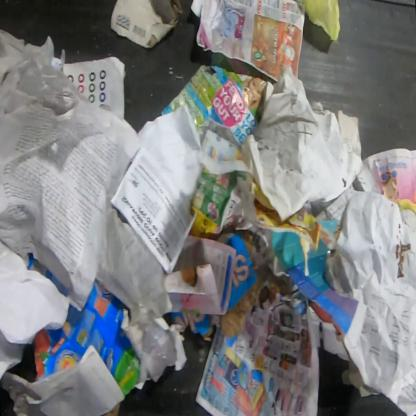cardboard: (33, 278, 143, 398), (188, 148, 251, 241), (110, 0, 185, 50), (28, 253, 70, 296), (100, 401, 122, 415)
soft_plastic: (0, 29, 92, 162), (138, 316, 178, 382), (304, 0, 342, 42)
